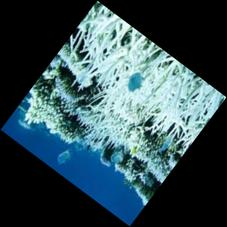bleached_corals: (13, 2, 226, 210)
